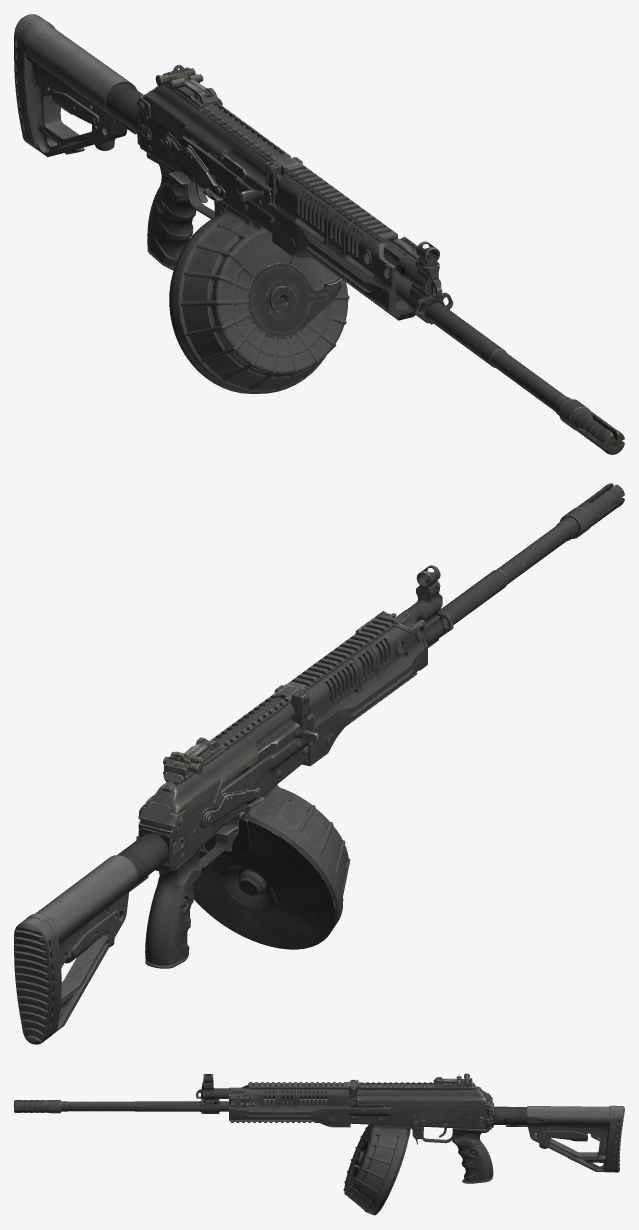
The model's file is rpk.glb.
The picture shows the model from 3 angles, top to bottom: view 1: azimuth 30°, elevation 25°; view 2: azimuth 150°, elevation 25°; view 3: azimuth 270°, elevation 25°; orthographic projection. The views are drawn at different scales.
Visible parts, largest first — view 1: RPK; view 2: RPK; view 3: RPK.
Boxes of the visible parts, x1,y1,x2,y2 form: RPK: (14,14,624,454); RPK: (14,483,624,1044); RPK: (14,1073,624,1215).
Size of the model in its own units: 9.14 by 14.23 by 57.81.
Materials: 10 (10 with a texture image).
